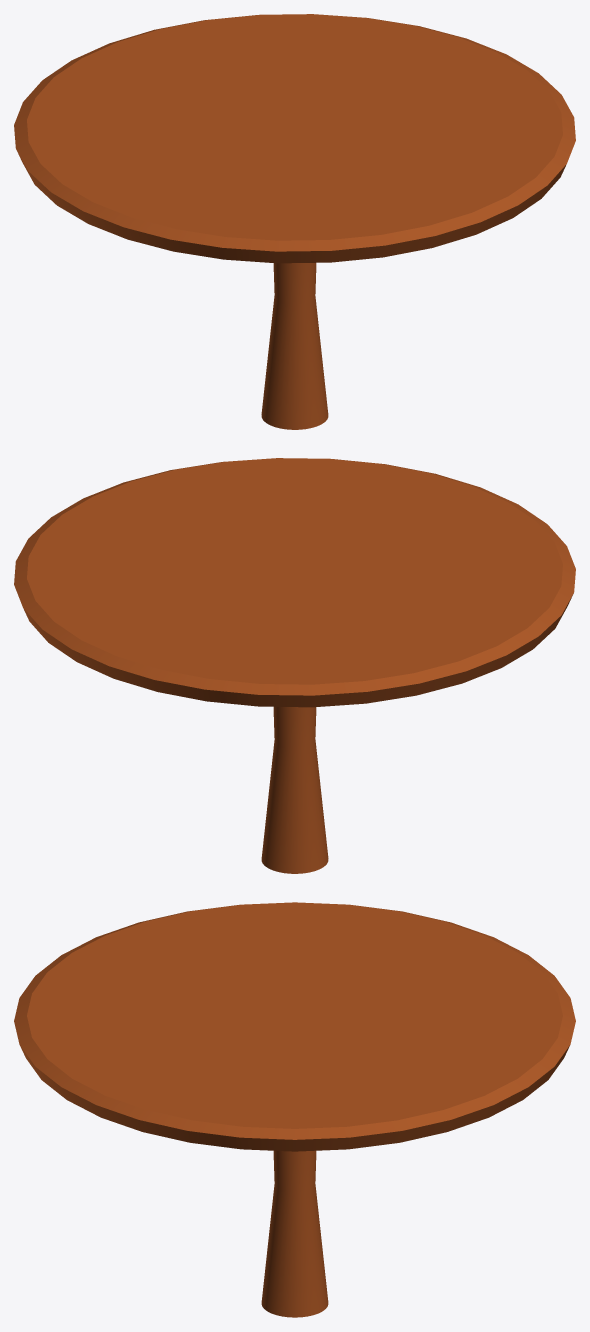
File: CircleTable.glb
3 renders of one model, top to bottom at view 1: azimuth 30°, elevation 25°; view 2: azimuth 150°, elevation 25°; view 3: azimuth 270°, elevation 25°, orthographic.
Visible parts, largest first — view 1: CircleTable; view 2: CircleTable; view 3: CircleTable.
Boxes of the visible parts, x1,y1,x2,y2 form: CircleTable: (14,14,575,429); CircleTable: (14,458,575,873); CircleTable: (14,902,575,1317).
Bounding box in the file's own units: 4.1 × 2.31 × 4.1.
